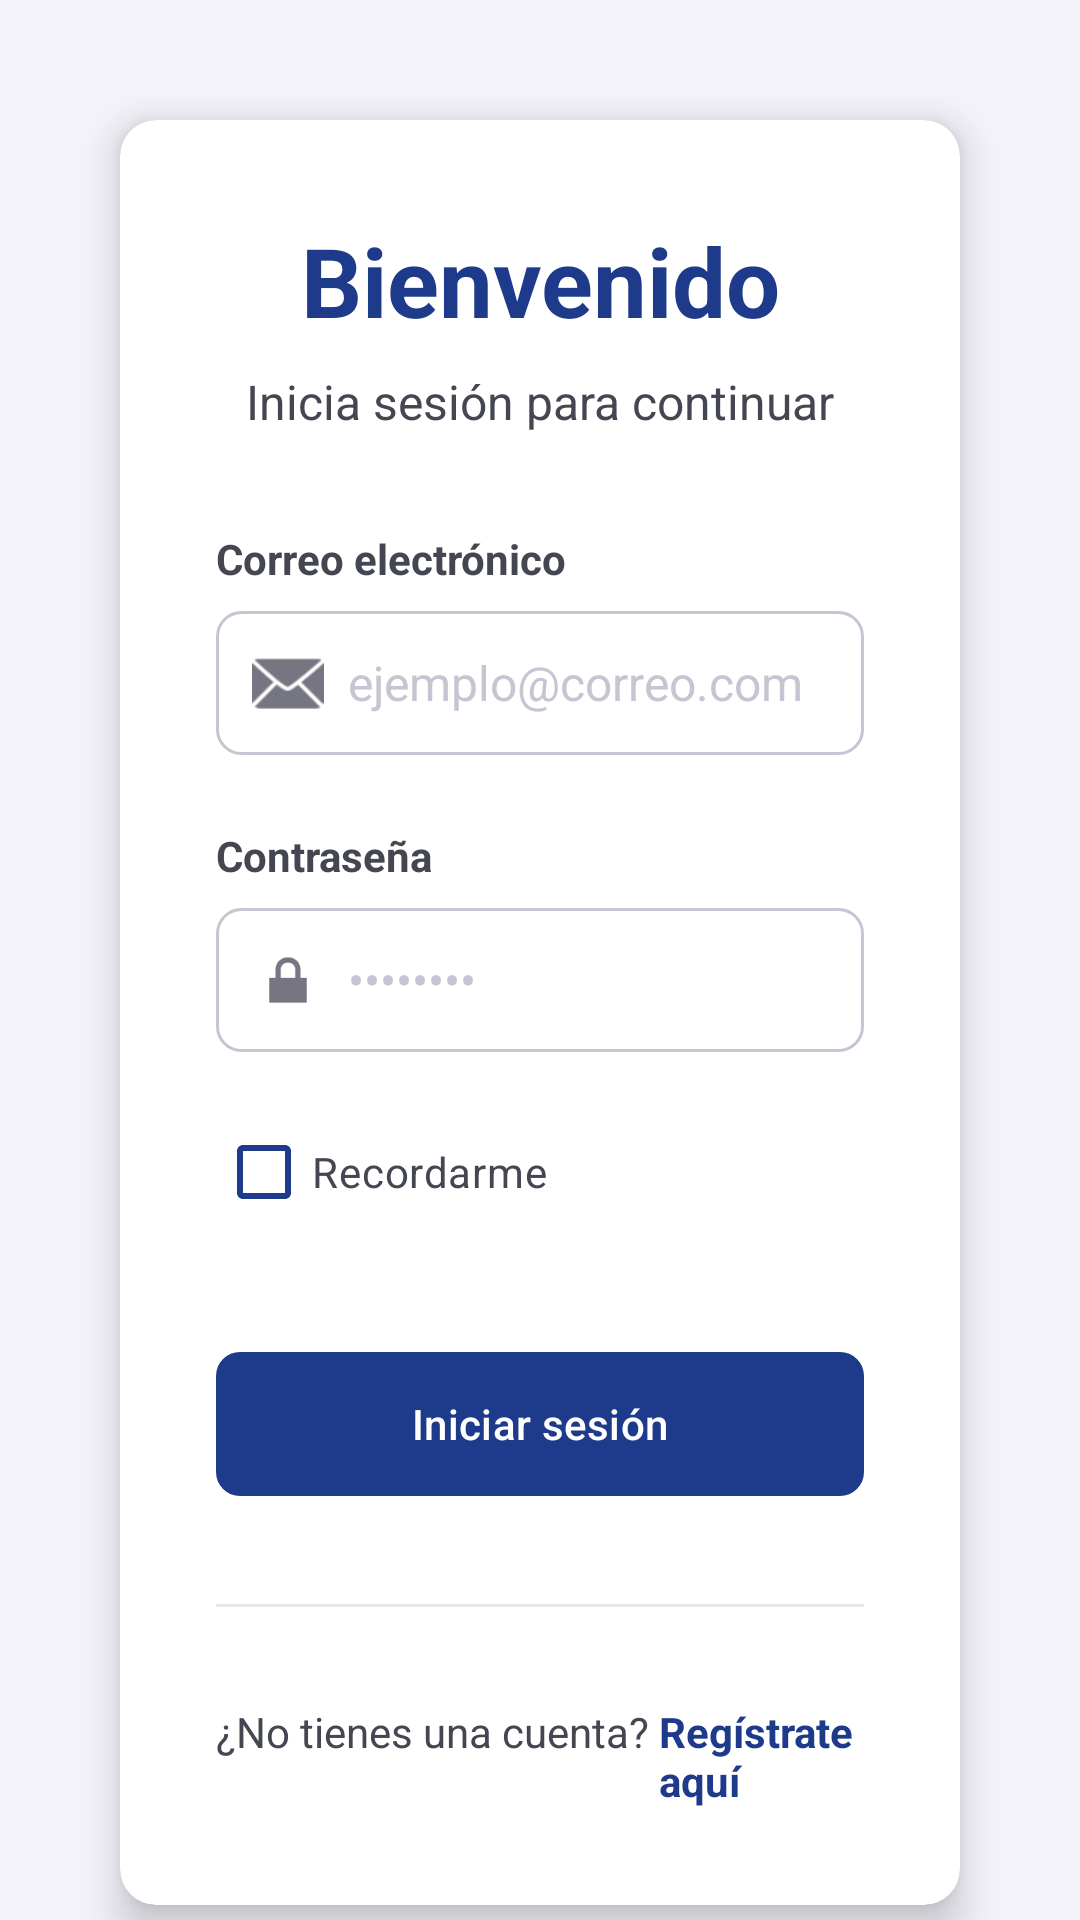

Point at icon controls on the screen. Image size 1080w x 1920h, points as (x,y).
email: (288,683)
lock: (288,980)
